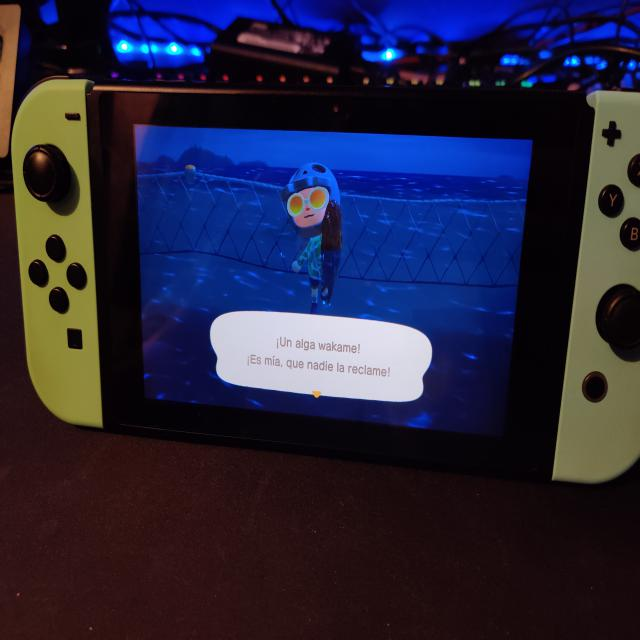text_bubble: (209, 305, 436, 408)
